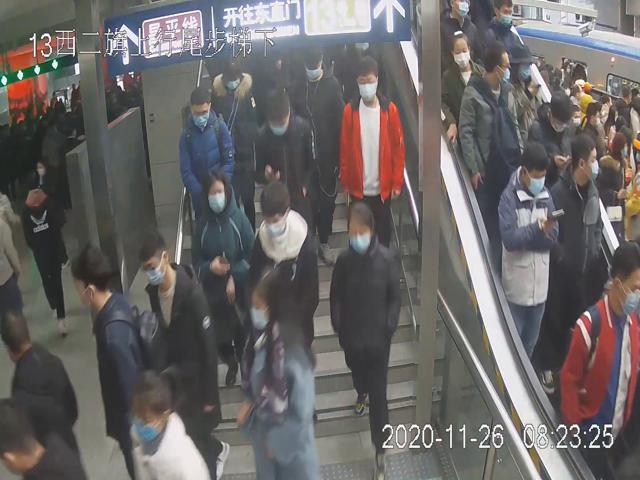person: (137, 223, 229, 470), (330, 199, 401, 480), (235, 259, 322, 480), (495, 138, 562, 360), (190, 167, 251, 390), (250, 178, 319, 366), (293, 44, 348, 272), (339, 55, 404, 242), (551, 129, 603, 337), (458, 40, 521, 188), (252, 86, 316, 225), (178, 86, 236, 205), (437, 28, 492, 146), (206, 54, 256, 154)
